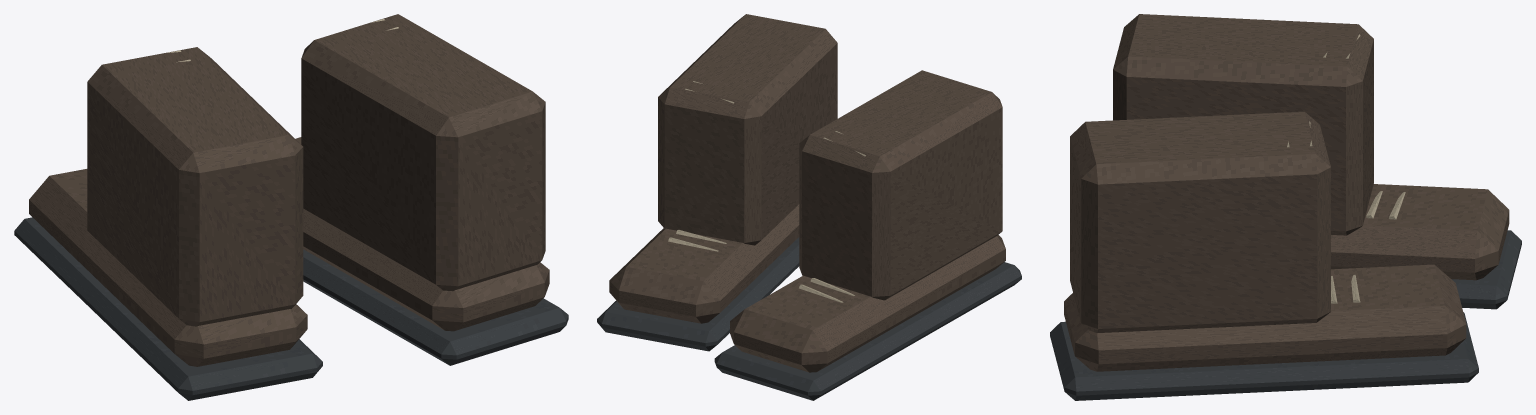
Rendered from boots.glb.
3 views of the same model, side by side, from view 1: azimuth 30°, elevation 25°; view 2: azimuth 150°, elevation 25°; view 3: azimuth 270°, elevation 25° (orthographic). The views are drawn at different scales.
Parts seen in each view (by area): view 1: block_collar (×2), block_upper and toe box (×2), block_sole (×2); view 2: block_collar (×2), block_upper and toe box (×2), block_sole (×2); view 3: block_collar (×2), block_upper and toe box (×2), block_sole (×2).
Boxes of the visible parts, box(x1,y1,x2,y2) form: block_collar (×2): box(87, 14, 545, 326); block_upper and toe box (×2): box(29, 137, 549, 366); block_sole (×2): box(14, 217, 568, 400); block_collar (×2): box(658, 14, 1002, 300); block_upper and toe box (×2): box(609, 204, 1005, 372); block_sole (×2): box(597, 237, 1021, 400); block_collar (×2): box(1070, 14, 1373, 332); block_upper and toe box (×2): box(1064, 184, 1509, 371); block_sole (×2): box(1050, 230, 1521, 400).
Size of the model in its own units: 0.2691 by 0.1655 by 0.3078.
1 material, 1 textured.
